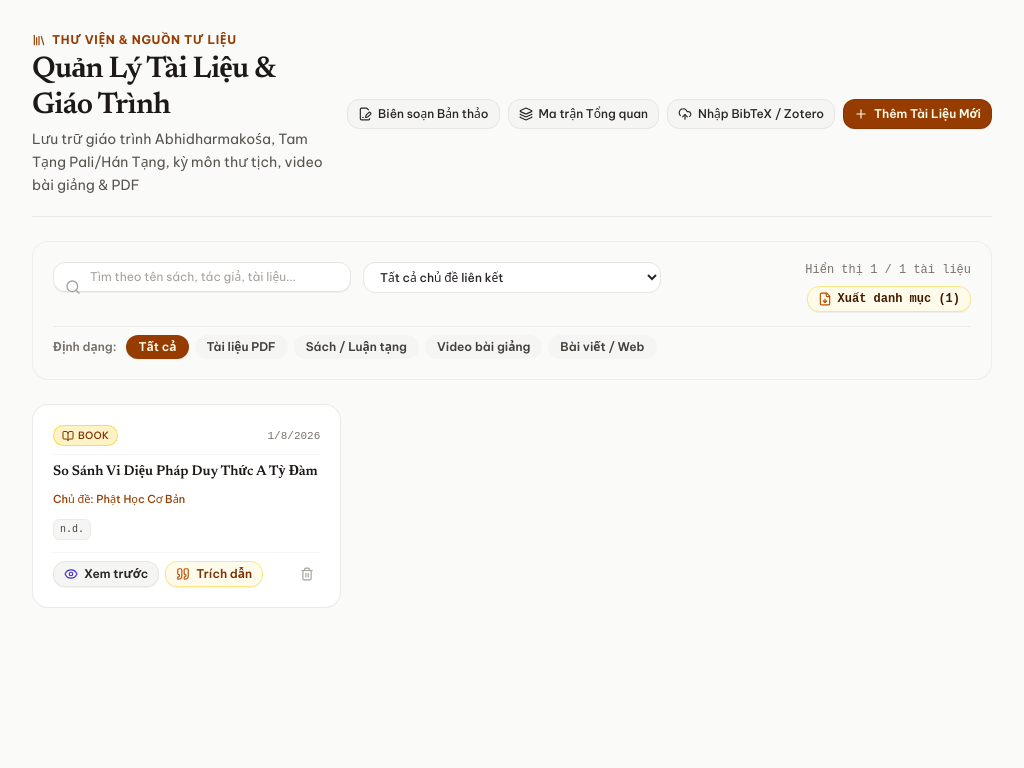
Test case: Integration: ResourcesManager Preview to Reader Flow › Scenario A: Resource has type "book" but filePath is ".md" -> must open MarkdownReaderAdapter with format "md", not EpubReaderAdapter
# Click "Xem trước" button on the resource card
Click the button "Xem trước" at (106, 574), box 53,561 -> 159,587
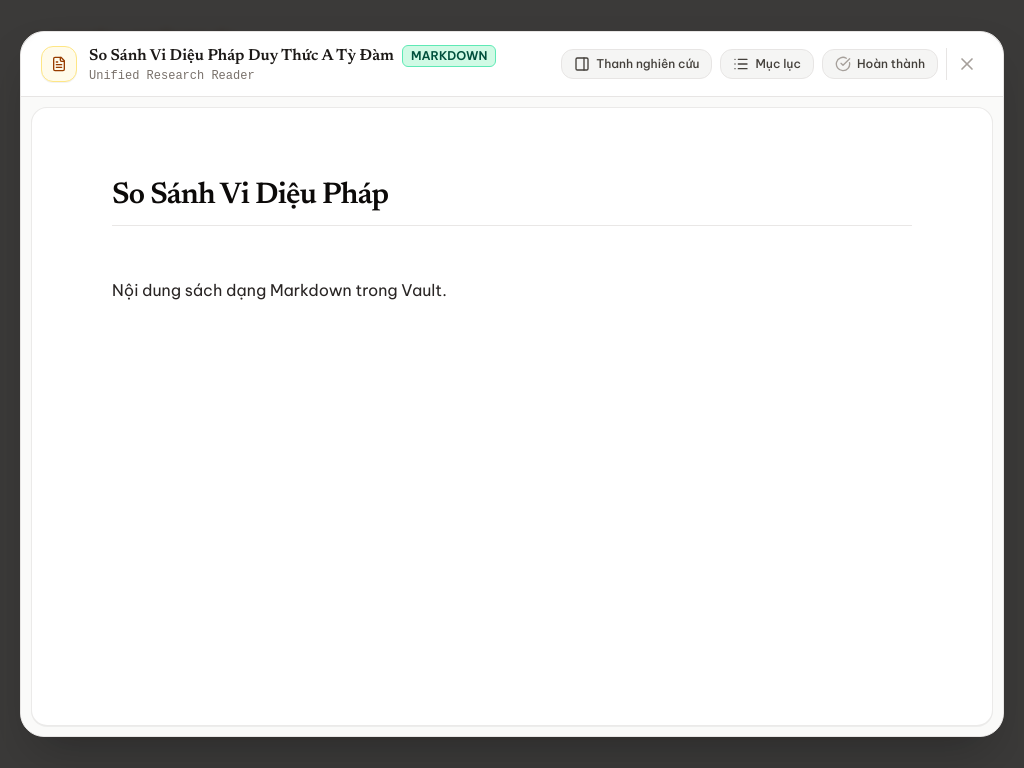
Expected: the element with test id "markdown-selectable-area" is shown, 112,176 -> 912,300
Expected: the text "So Sánh Vi Diệu Pháp" is shown, 112,181 -> 388,211
Expected: the text "Nội dung sách dạng Markdown trong Vault." is shown, 112,280 -> 447,300
